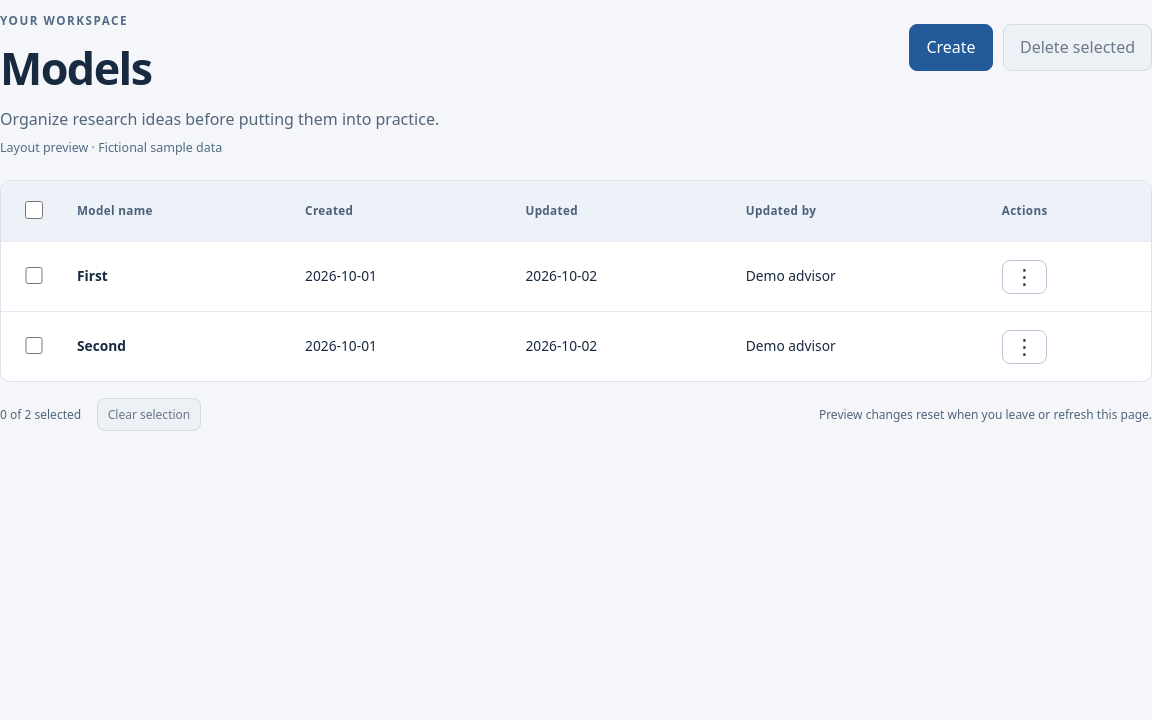
Test: row deletion ignores unrelated selection and can delete into the empty state
Click the checkbox named "Select First" at (34, 275), box x1=25 y1=266 x2=43 y2=284
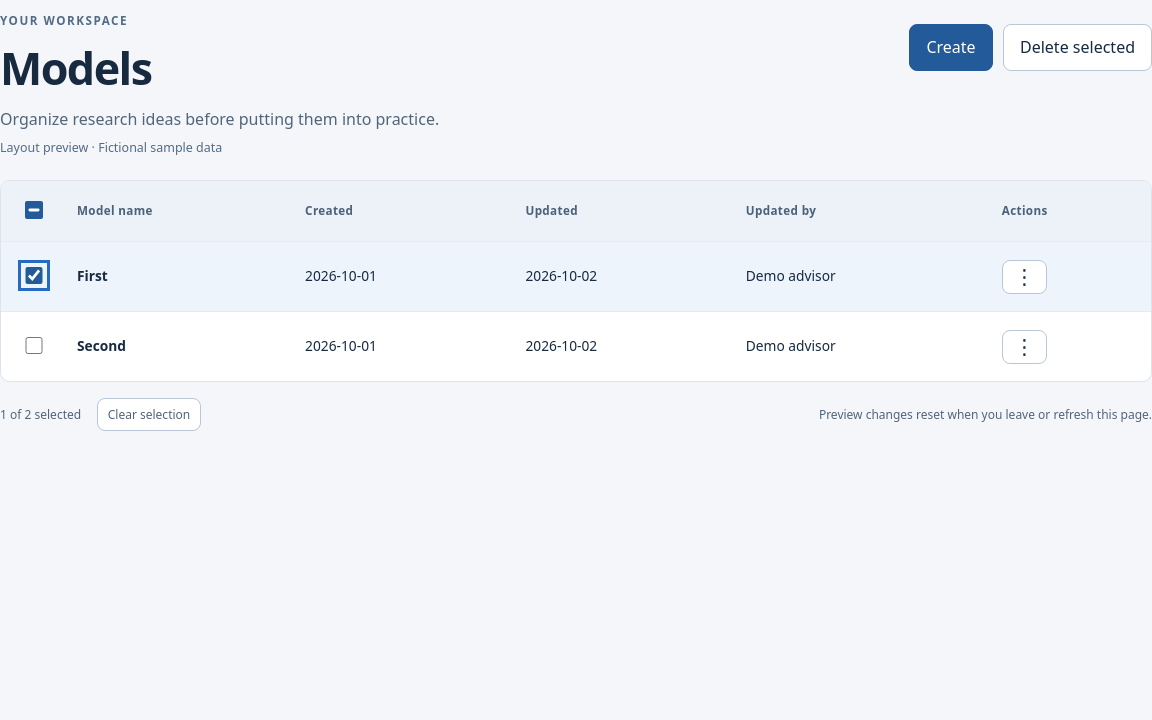
Click the button named "Actions for Second" at (1024, 347), box x1=1002 y1=330 x2=1047 y2=364
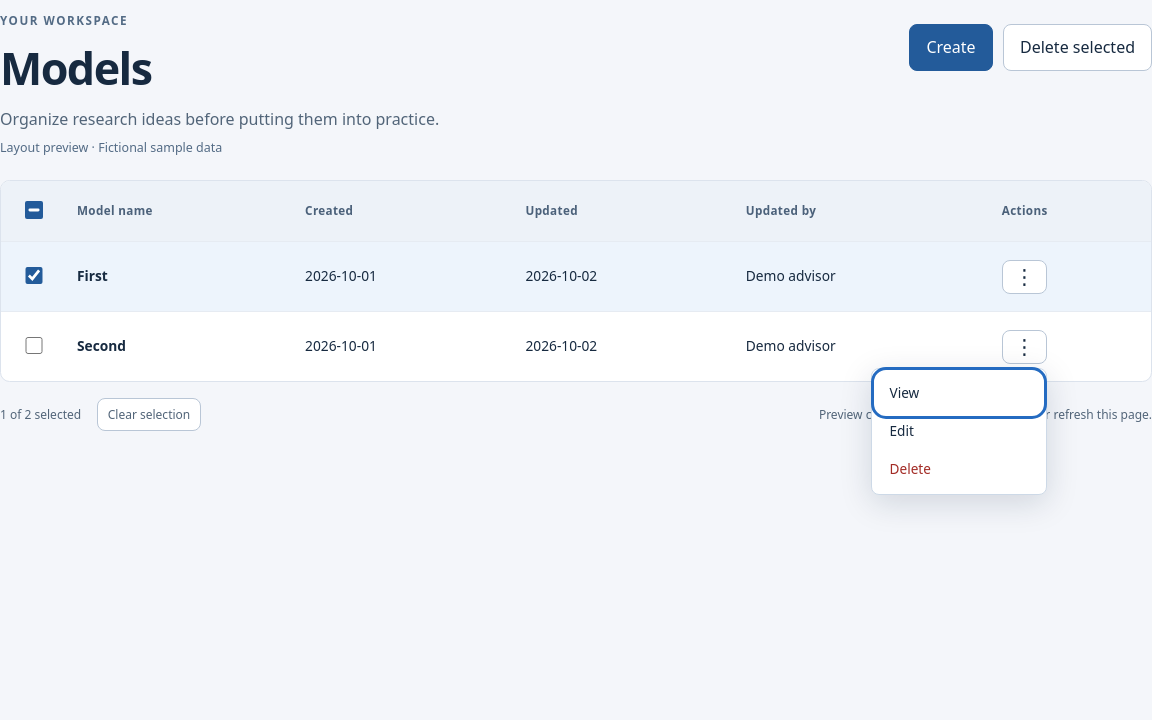
Click the menu item "Delete" at (959, 469), box x1=878 y1=450 x2=1040 y2=488
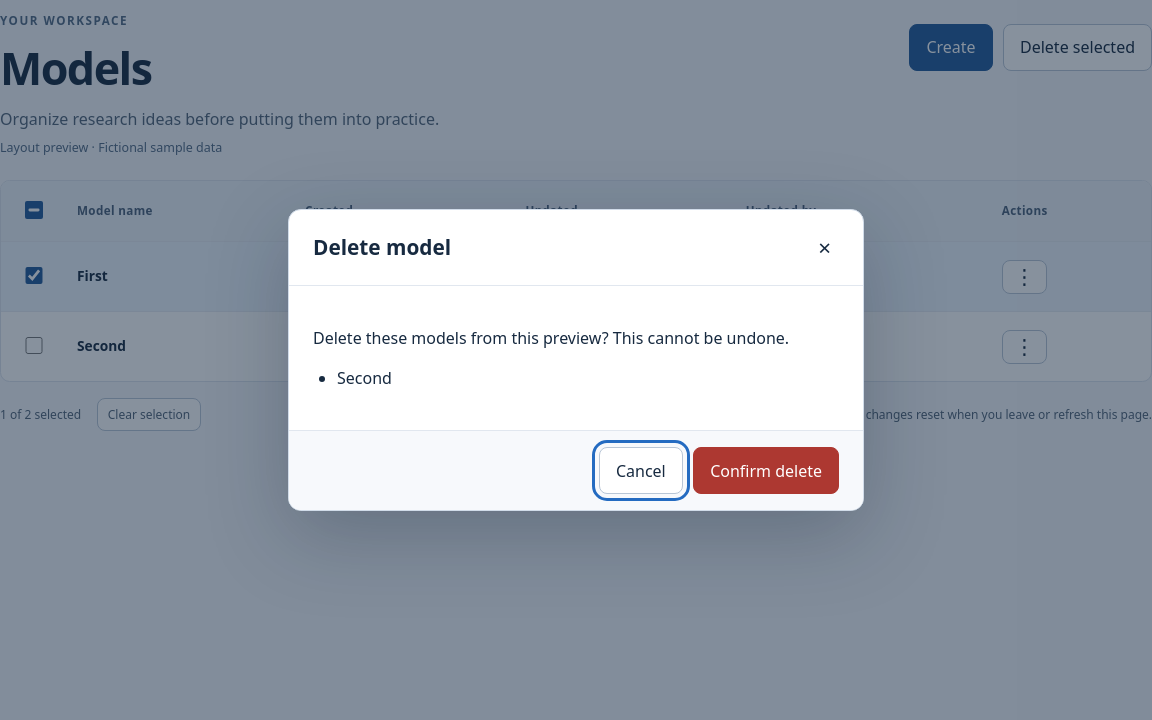
Expected: the list items read "Second", in this order, x1=337 y1=367 x2=392 y2=389
Click the button "Confirm delete" at (766, 471), box x1=693 y1=447 x2=839 y2=494
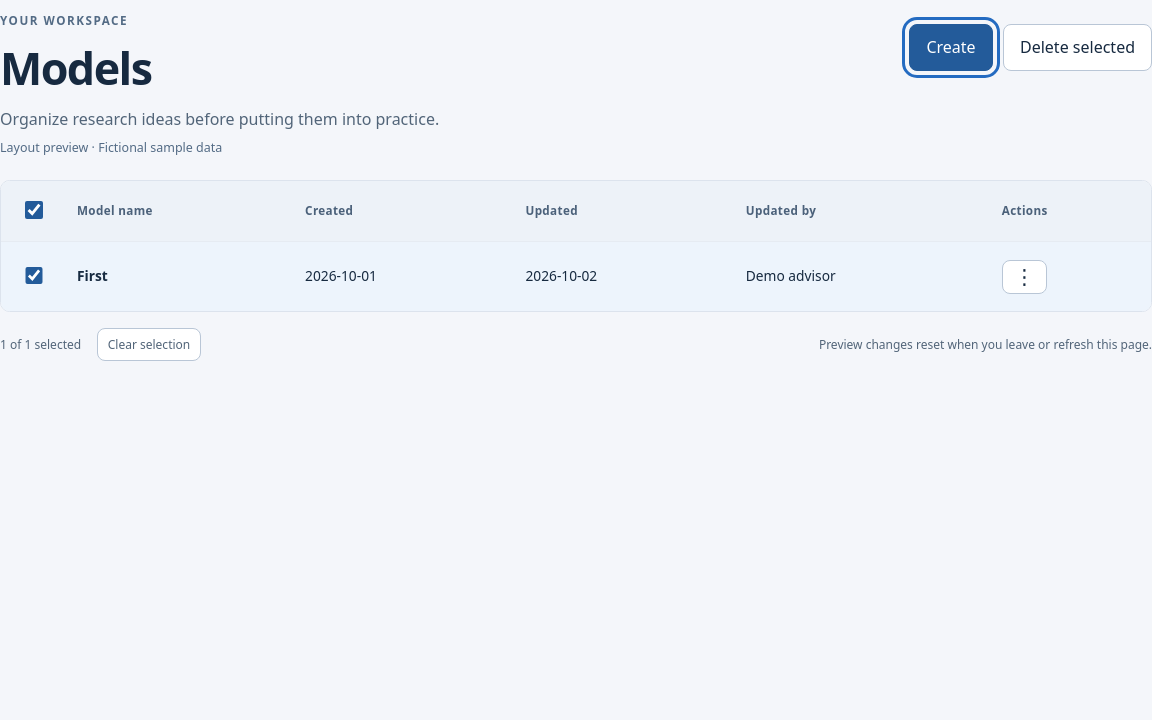
Expected: the message reads "1 of 1 selected", x1=0 y1=336 x2=81 y2=354
Click the button "Delete selected" at (1078, 47), box x1=1003 y1=24 x2=1151 y2=71
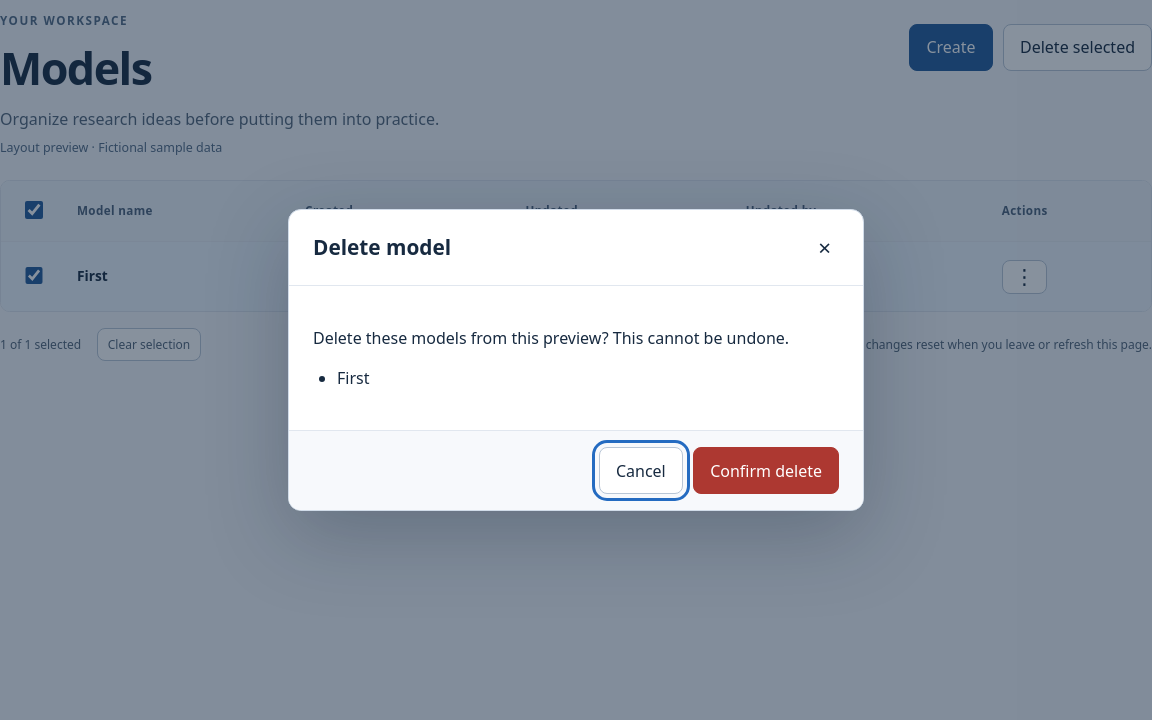
Click the button "Confirm delete" at (766, 471), box x1=693 y1=447 x2=839 y2=494
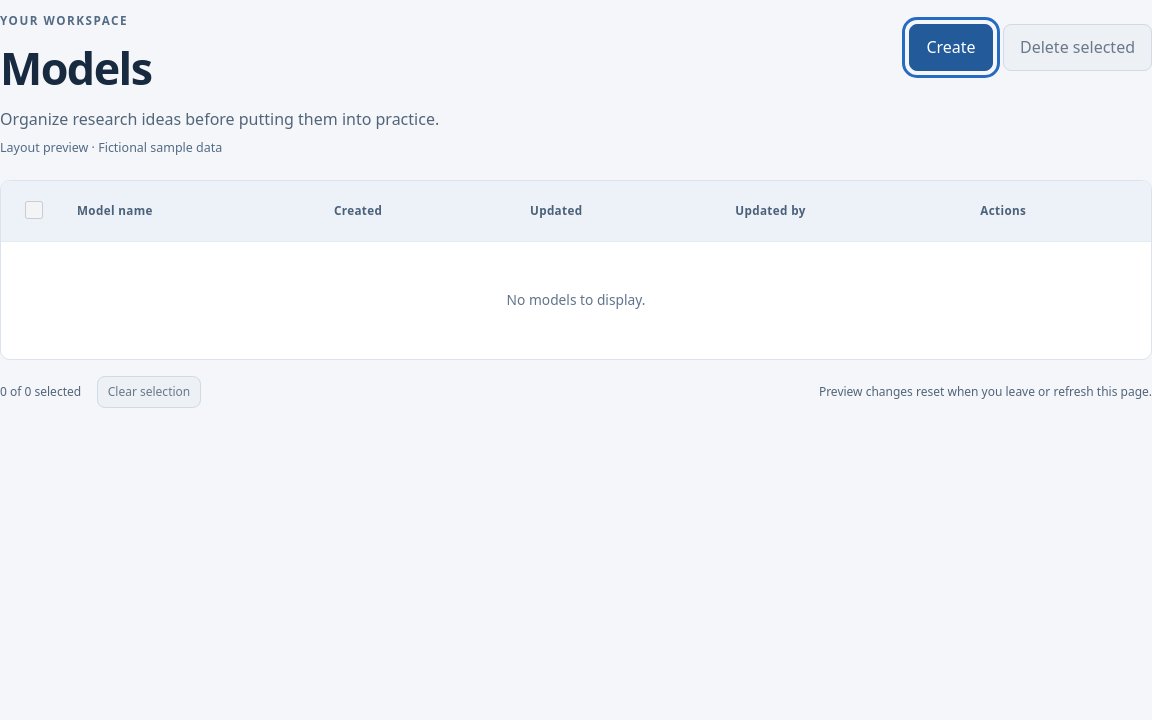
Expected: the text "No models to display." is shown, x1=1 y1=242 x2=1151 y2=359
Expected: the message reads "0 of 0 selected", x1=0 y1=383 x2=81 y2=401
Expected: the checkbox named "Select all models" is disabled, x1=25 y1=201 x2=43 y2=219
